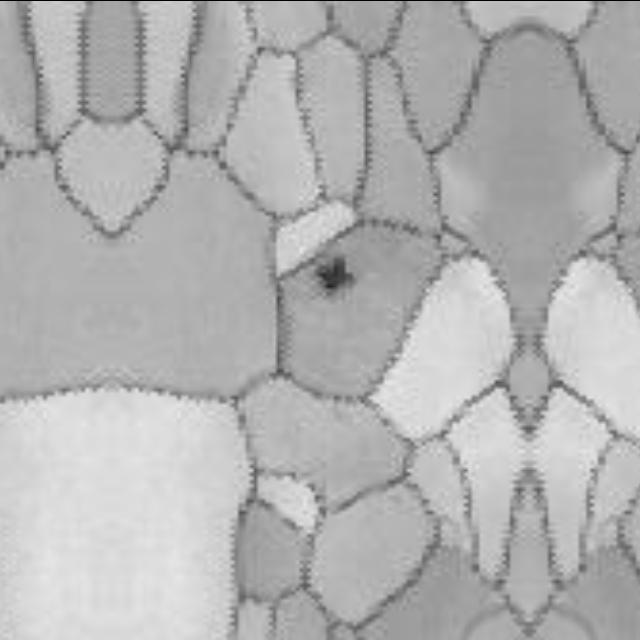good_void: (312, 256, 355, 296)
